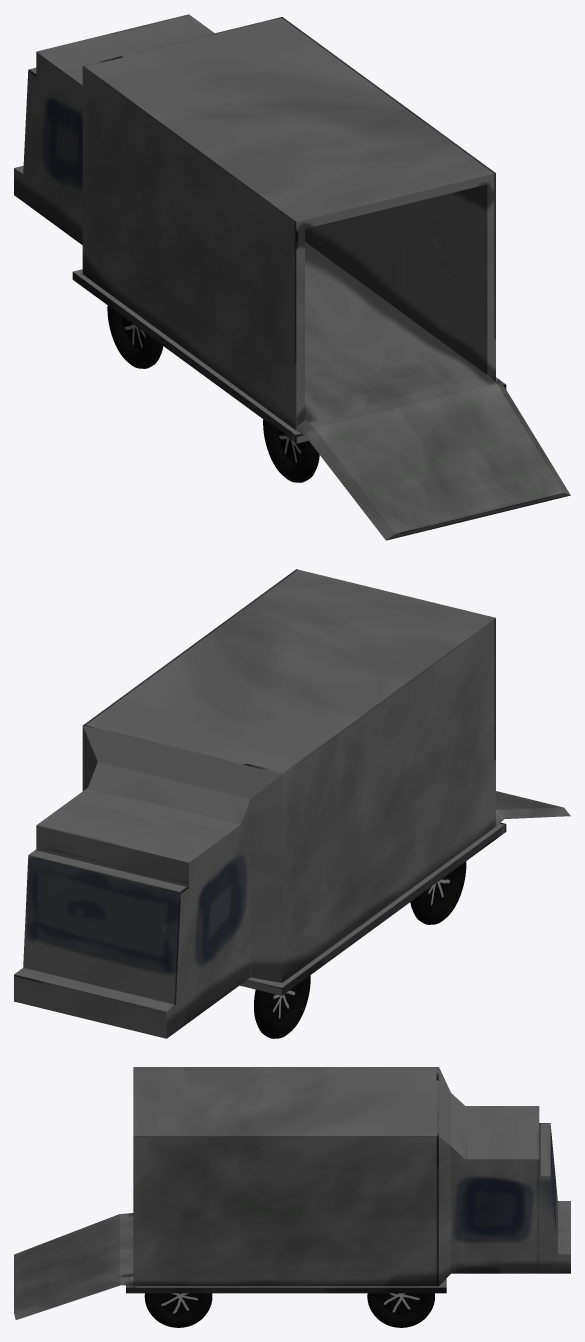
File: truck.fbx
The picture shows the model from 3 angles, top to bottom: view 1: azimuth 30°, elevation 25°; view 2: azimuth 150°, elevation 25°; view 3: azimuth 270°, elevation 25°; orthographic projection. The views are drawn at different scales.
Visible parts, largest first — view 1: Truck, wheels; view 2: Truck, wheels; view 3: Truck, wheels.
Part boxes in pixels (x1,y1,x2,y2): Truck: [14, 14, 570, 540]; wheels: [107, 305, 319, 482]; Truck: [14, 569, 570, 1038]; wheels: [254, 861, 466, 1038]; Truck: [14, 1067, 570, 1319]; wheels: [144, 1293, 434, 1327].
Size of the model in its own units: 2099 by 2749 by 6756.
Materials: 2 (2 with a texture image).
